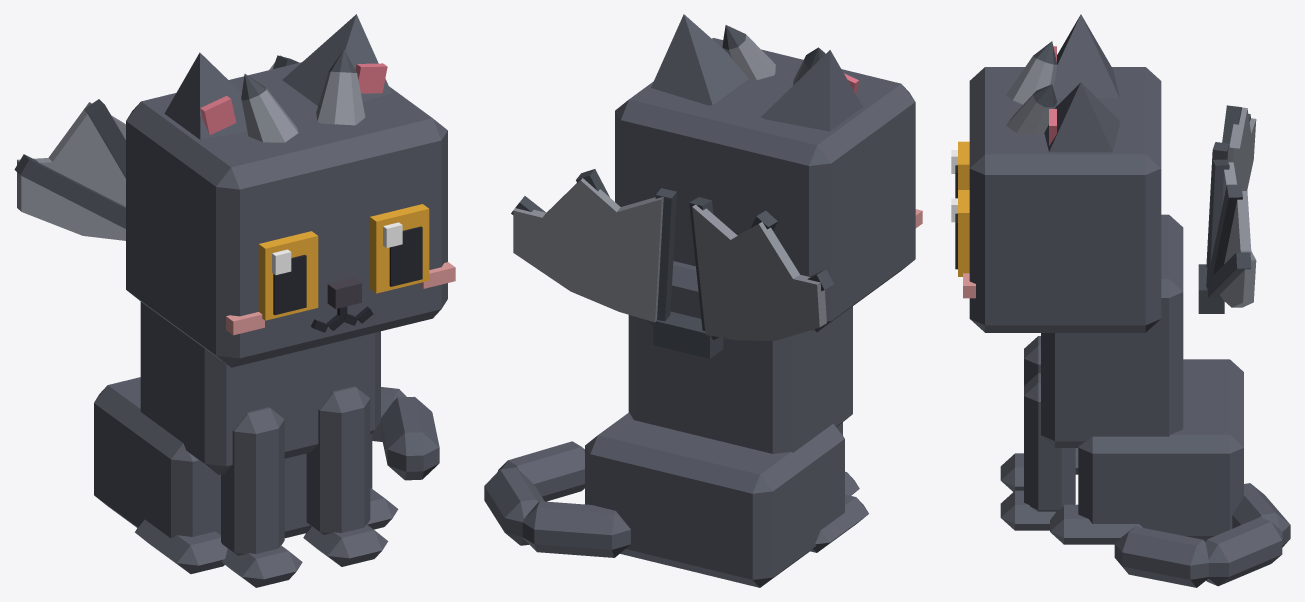
The model's file is CatCafe_Cat_Gargoyle_Sit.glb.
3 renders of one model, left to right at view 1: azimuth 30°, elevation 25°; view 2: azimuth 150°, elevation 25°; view 3: azimuth 270°, elevation 25°, orthographic. The views are drawn at different scales.
Visible parts, largest first — view 1: CatCafe_Cat_Gargoyle_Sit_Head, CatCafe_Cat_Gargoyle_Sit_Body, CatCafe_Cat_Gargoyle_Sit_Prop, CatCafe_Cat_Gargoyle_Sit_LegF1, CatCafe_Cat_Gargoyle_Sit_LegF2, CatCafe_Cat_Gargoyle_Sit_Prop2, CatCafe_Cat_Gargoyle_Sit_Eye2, CatCafe_Cat_Gargoyle_Sit_Eye1, CatCafe_Cat_Gargoyle_Sit_Tail, CatCafe_Cat_Gargoyle_Sit_EarR, CatCafe_Cat_Gargoyle_Sit_EarL; view 2: CatCafe_Cat_Gargoyle_Sit_Body, CatCafe_Cat_Gargoyle_Sit_Head, CatCafe_Cat_Gargoyle_Sit_Prop, CatCafe_Cat_Gargoyle_Sit_Tail, CatCafe_Cat_Gargoyle_Sit_EarL, CatCafe_Cat_Gargoyle_Sit_EarR, CatCafe_Cat_Gargoyle_Sit_Prop2; view 3: CatCafe_Cat_Gargoyle_Sit_Head, CatCafe_Cat_Gargoyle_Sit_Body, CatCafe_Cat_Gargoyle_Sit_Tail, CatCafe_Cat_Gargoyle_Sit_Prop, CatCafe_Cat_Gargoyle_Sit_LegF1, CatCafe_Cat_Gargoyle_Sit_EarL, CatCafe_Cat_Gargoyle_Sit_EarR, CatCafe_Cat_Gargoyle_Sit_Prop2, CatCafe_Cat_Gargoyle_Sit_LegF2, CatCafe_Cat_Gargoyle_Sit_Eye1, CatCafe_Cat_Gargoyle_Sit_Eye2.
Part boxes in pixels (x1,y1,x2,y2): CatCafe_Cat_Gargoyle_Sit_Head: [126, 62, 455, 367]; CatCafe_Cat_Gargoyle_Sit_Body: [94, 302, 398, 573]; CatCafe_Cat_Gargoyle_Sit_Prop: [14, 55, 298, 240]; CatCafe_Cat_Gargoyle_Sit_LegF1: [303, 386, 388, 566]; CatCafe_Cat_Gargoyle_Sit_LegF2: [221, 407, 302, 587]; CatCafe_Cat_Gargoyle_Sit_Prop2: [241, 49, 365, 142]; CatCafe_Cat_Gargoyle_Sit_Eye2: [258, 231, 318, 320]; CatCafe_Cat_Gargoyle_Sit_Eye1: [370, 204, 429, 293]; CatCafe_Cat_Gargoyle_Sit_Tail: [372, 387, 439, 480]; CatCafe_Cat_Gargoyle_Sit_EarR: [164, 52, 247, 139]; CatCafe_Cat_Gargoyle_Sit_EarL: [282, 14, 391, 105]; CatCafe_Cat_Gargoyle_Sit_Body: [585, 261, 868, 587]; CatCafe_Cat_Gargoyle_Sit_Head: [615, 38, 922, 332]; CatCafe_Cat_Gargoyle_Sit_Prop: [511, 169, 833, 358]; CatCafe_Cat_Gargoyle_Sit_Tail: [484, 441, 630, 557]; CatCafe_Cat_Gargoyle_Sit_EarL: [651, 14, 748, 105]; CatCafe_Cat_Gargoyle_Sit_EarR: [761, 50, 862, 131]; CatCafe_Cat_Gargoyle_Sit_Prop2: [722, 25, 825, 85]; CatCafe_Cat_Gargoyle_Sit_Head: [963, 67, 1161, 332]; CatCafe_Cat_Gargoyle_Sit_Body: [1041, 214, 1243, 544]; CatCafe_Cat_Gargoyle_Sit_Tail: [1114, 483, 1290, 587]; CatCafe_Cat_Gargoyle_Sit_Prop: [1198, 105, 1256, 313]; CatCafe_Cat_Gargoyle_Sit_LegF1: [1000, 373, 1075, 530]; CatCafe_Cat_Gargoyle_Sit_EarL: [1044, 82, 1119, 152]; CatCafe_Cat_Gargoyle_Sit_EarR: [1053, 14, 1119, 98]; CatCafe_Cat_Gargoyle_Sit_Prop2: [1006, 41, 1057, 134]; CatCafe_Cat_Gargoyle_Sit_LegF2: [1000, 336, 1040, 491]; CatCafe_Cat_Gargoyle_Sit_Eye1: [951, 190, 969, 276]; CatCafe_Cat_Gargoyle_Sit_Eye2: [951, 141, 969, 198].
Bounding box in the file's own units: 1.45 × 1.85 × 1.24.
1 material, 1 textured.
